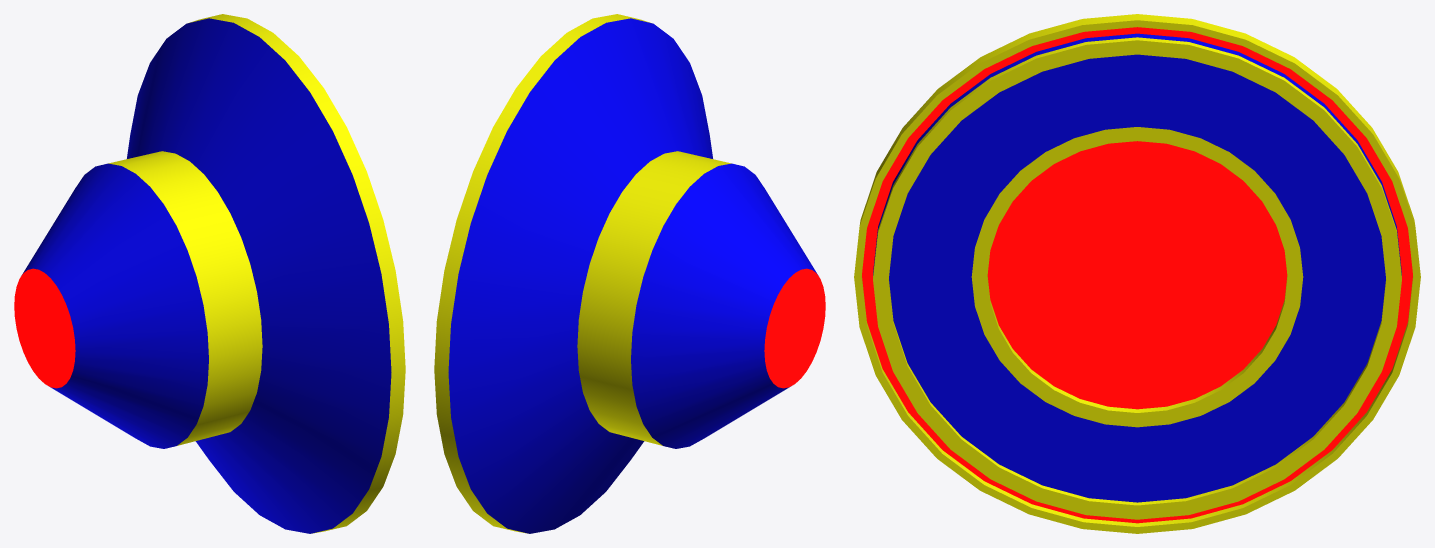
File: Mallet Right.fbx
3 renders of one model, left to right at view 1: azimuth 30°, elevation 25°; view 2: azimuth 150°, elevation 25°; view 3: azimuth 270°, elevation 25°, orthographic. The views are drawn at different scales.
Visible parts, largest first — view 1: Mallet Right; view 2: Mallet Right; view 3: Mallet Right.
Part boxes in pixels (left/top/right/bottom): Mallet Right: left=14, top=14, right=405, bottom=533; Mallet Right: left=434, top=14, right=825, bottom=533; Mallet Right: left=854, top=14, right=1420, bottom=533.
Bounding box in the file's own units: 102 × 200 × 200.
